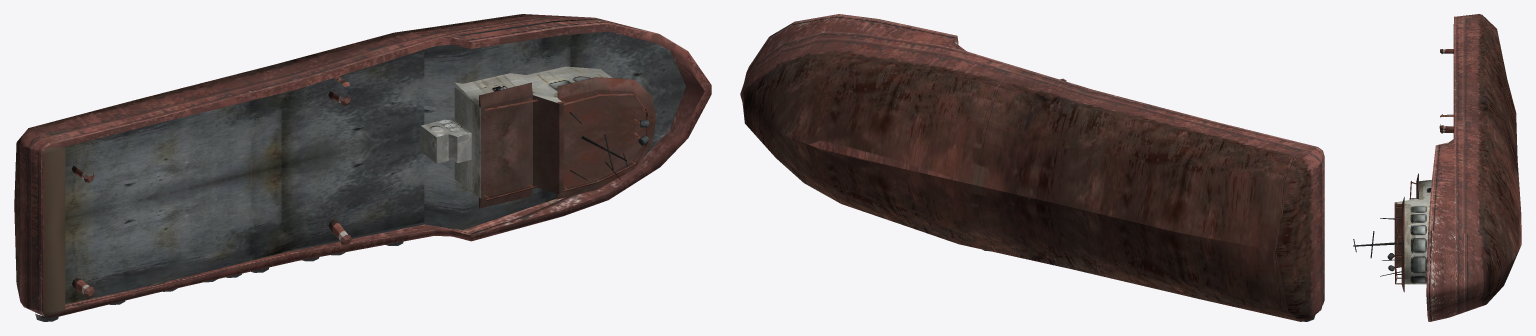
File: vehicle_cargoship_d.glb
3 views of the same model, side by side, from view 1: azimuth 30°, elevation 25°; view 2: azimuth 150°, elevation 25°; view 3: azimuth 270°, elevation 25° (orthographic). The views are drawn at different scales.
Bounding box in the file's own units: 1694 × 500 × 547.
1 material, 1 textured.
